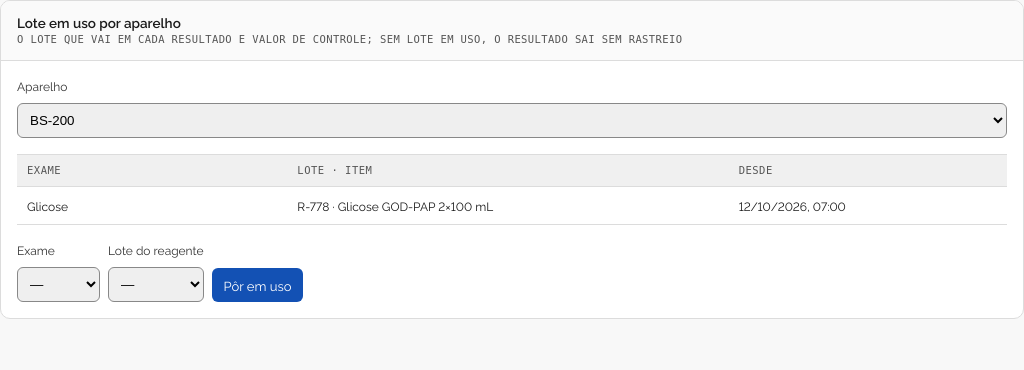
Test: InUsePanel › lista velha (tela mostra A, outro operador pôs B): 201 não diz que nada mudou
The width and height of the screenshot is (1024, 370).
Expected: the text "R-778 · Glicose GOD-PAP 2×100 mL" is shown, [297,197,493,214]
Select "Glicose" in the dropdown labelled "Exame" at (58,284), box [17,267,100,302]
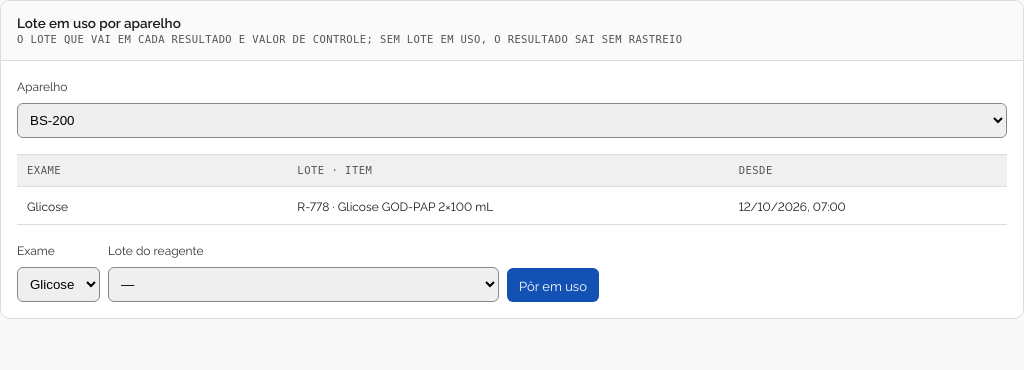
Select "R-778 · Glicose GOD-PAP 2×100 mL · validade 31/01/2027" in the dropdown labelled "Lote do reagente" at (304,284), box [108,267,499,302]
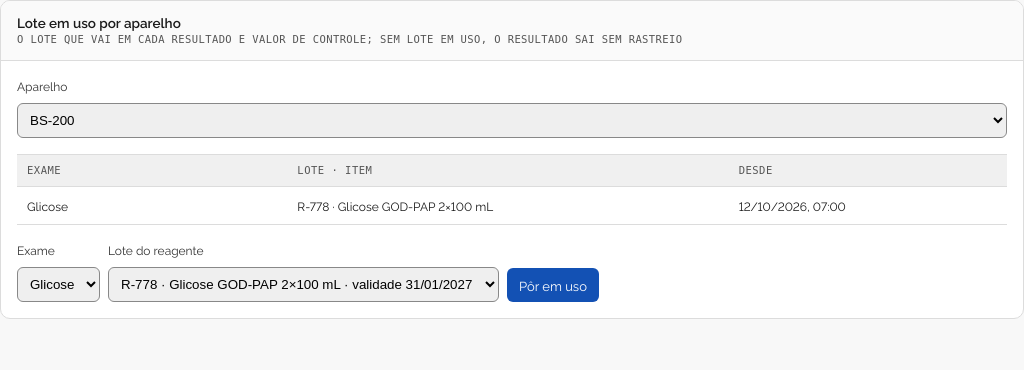
Click the button "Pôr em uso" at (553,285), box [507,268,599,302]
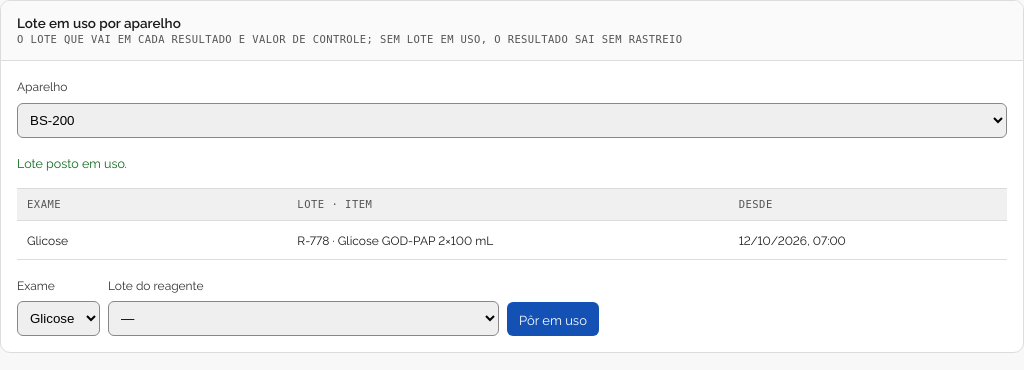
Expected: the text "Lote posto em uso." is shown, [17,154,127,171]
